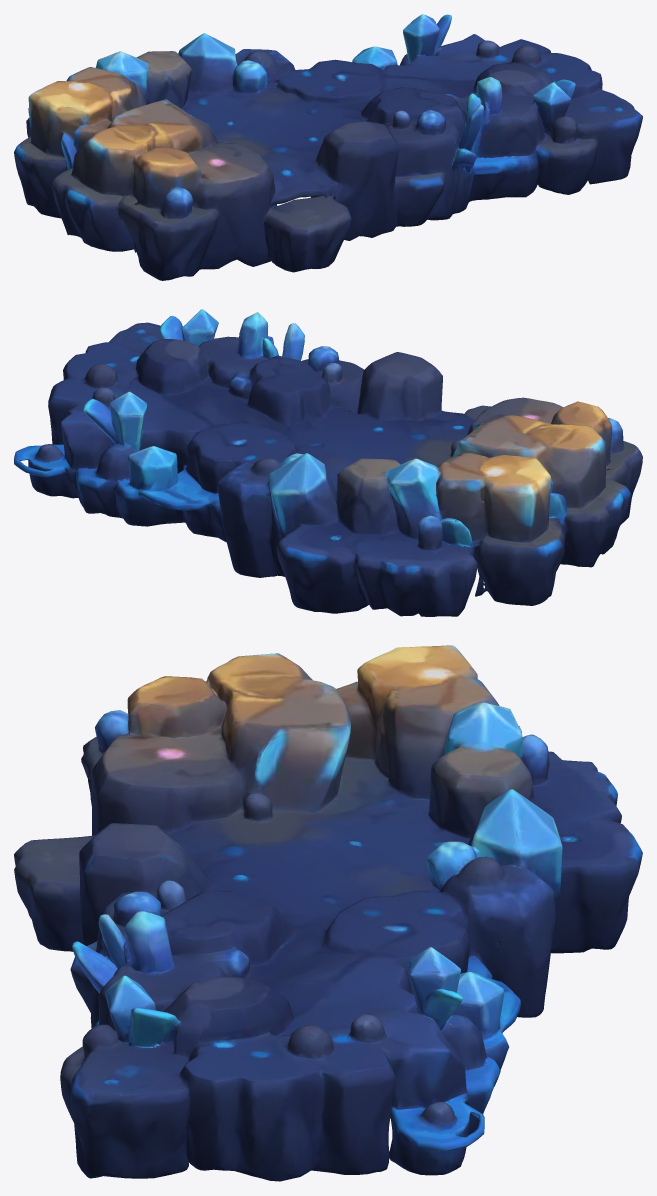
File: neural.glb
3 renders of one model, top to bottom at view 1: azimuth 30°, elevation 25°; view 2: azimuth 150°, elevation 25°; view 3: azimuth 270°, elevation 25°, orthographic. The views are drawn at different scales.
Parts seen in each view (by area): view 1: world; view 2: world; view 3: world.
Part boxes in pixels (left/top/right/bottom): world: left=14, top=14, right=642, bottom=280; world: left=14, top=309, right=642, bottom=616; world: left=14, top=645, right=642, bottom=1181.
Bounding box in the file's own units: 1 × 0.2401 × 0.683.
1 material, 1 textured.
